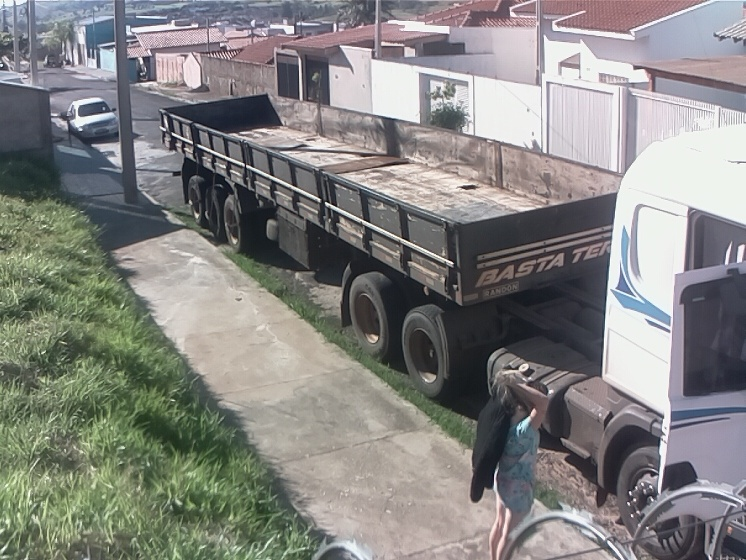person: (486, 362, 552, 560)
